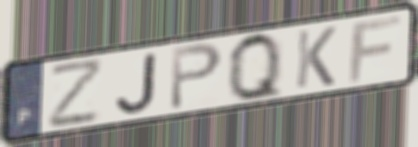F: (345, 13, 404, 85)
J: (113, 50, 160, 116)
K: (294, 24, 339, 90)
P: (167, 40, 225, 113)
Q: (225, 30, 286, 104)
Z: (48, 55, 107, 131)
